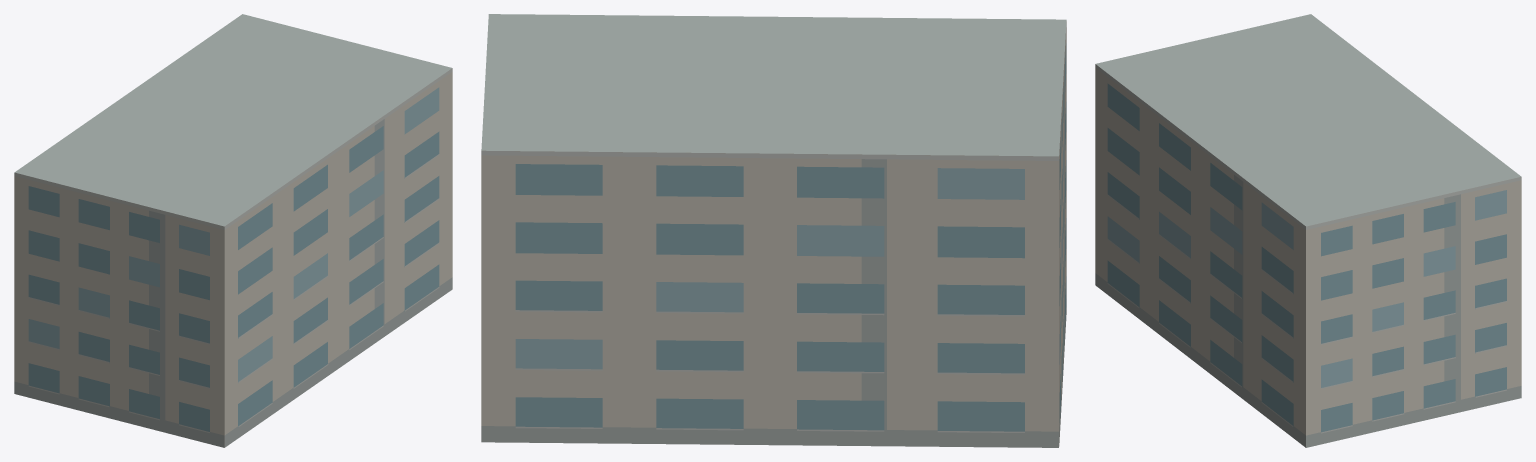
Rendered from residential-8b355f90-12c8-4dc3-8721-bb2d24c35f61.glb.
3 renders of one model, left to right at view 1: azimuth 30°, elevation 25°; view 2: azimuth 150°, elevation 25°; view 3: azimuth 270°, elevation 25°, orthographic. The views are drawn at different scales.
Visible parts, largest first — view 1: residential-8b355f90-12c8-4dc3-8721-bb2d24c35f61.tmp; view 2: residential-8b355f90-12c8-4dc3-8721-bb2d24c35f61.tmp; view 3: residential-8b355f90-12c8-4dc3-8721-bb2d24c35f61.tmp.
Part boxes in pixels (left/top/right/bottom): residential-8b355f90-12c8-4dc3-8721-bb2d24c35f61.tmp: left=14, top=14, right=452, bottom=447; residential-8b355f90-12c8-4dc3-8721-bb2d24c35f61.tmp: left=481, top=14, right=1066, bottom=447; residential-8b355f90-12c8-4dc3-8721-bb2d24c35f61.tmp: left=1095, top=14, right=1521, bottom=447.
Bounding box in the file's own units: 31.41 × 15.25 × 26.63.
